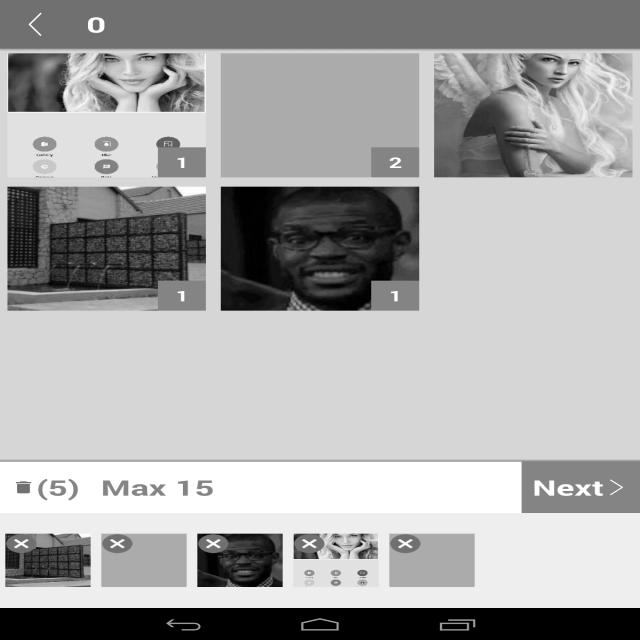ImageButton: (480, 388, 558, 436), (480, 461, 558, 509), (82, 388, 159, 436), (281, 388, 358, 436), (82, 461, 159, 509), (281, 461, 358, 509)
ImageView: (0, 42, 640, 310), (7, 54, 206, 178), (434, 54, 633, 178), (221, 54, 419, 178), (7, 187, 206, 310), (221, 187, 419, 310), (5, 534, 91, 587), (101, 534, 187, 587), (197, 534, 283, 587), (293, 534, 379, 587), (389, 534, 475, 587), (0, 0, 70, 48), (589, 5, 631, 38), (5, 534, 38, 554), (389, 534, 422, 554), (102, 534, 134, 554), (198, 534, 230, 554), (294, 534, 326, 554)
TextView: (90, 462, 225, 513), (521, 461, 640, 513), (0, 462, 90, 513), (71, 0, 122, 49), (487, 5, 538, 38), (436, 5, 486, 38), (538, 5, 588, 38), (465, 512, 573, 527), (158, 148, 206, 178), (371, 148, 419, 178), (158, 280, 206, 310), (371, 280, 419, 310), (91, 512, 150, 527), (490, 440, 547, 454), (94, 440, 148, 454), (302, 512, 337, 527), (304, 440, 335, 454)
